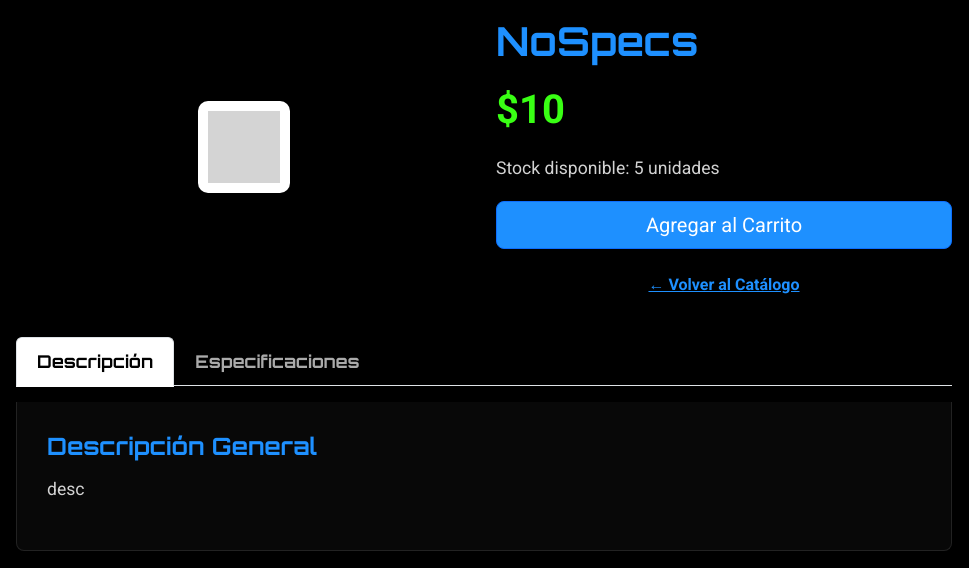
Test: ProductDetailPage › renderiza mensaje cuando no hay specs
This screenshot has width=969, height=568.
Expected: the heading "NoSpecs" is shown, x1=496 y1=16 x2=699 y2=66
Click the tab "Especificaciones". click: (277, 362)
box: x1=174 y1=337 x2=380 y2=386
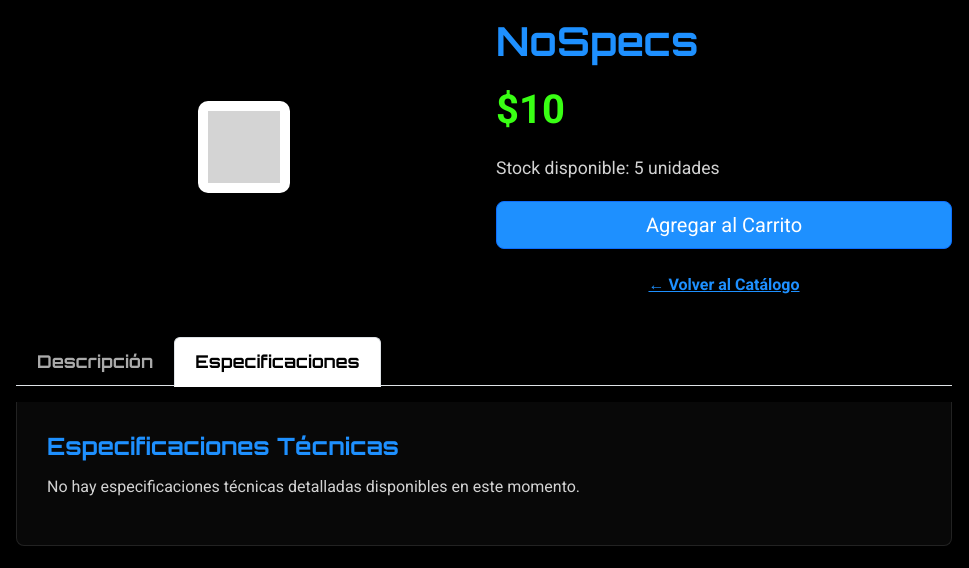
Now the text "No hay especificaciones técnicas" is shown, box x1=47 y1=477 x2=580 y2=496
